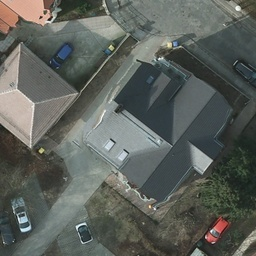car: (204, 213, 230, 244), (47, 44, 74, 70), (13, 196, 31, 231), (1, 210, 16, 247), (75, 220, 94, 245)
